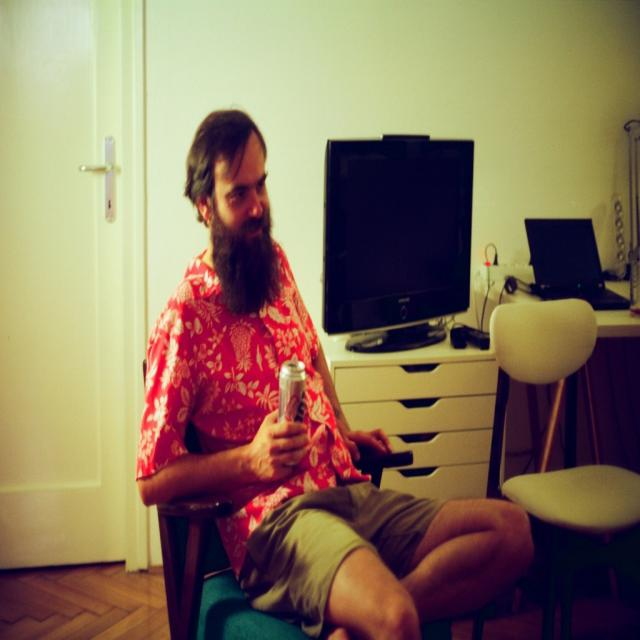chair: (485, 299, 639, 633)
desk: (476, 260, 640, 473)
laptop: (524, 218, 631, 311)
person: (134, 101, 534, 640)
tv: (322, 136, 474, 341)
